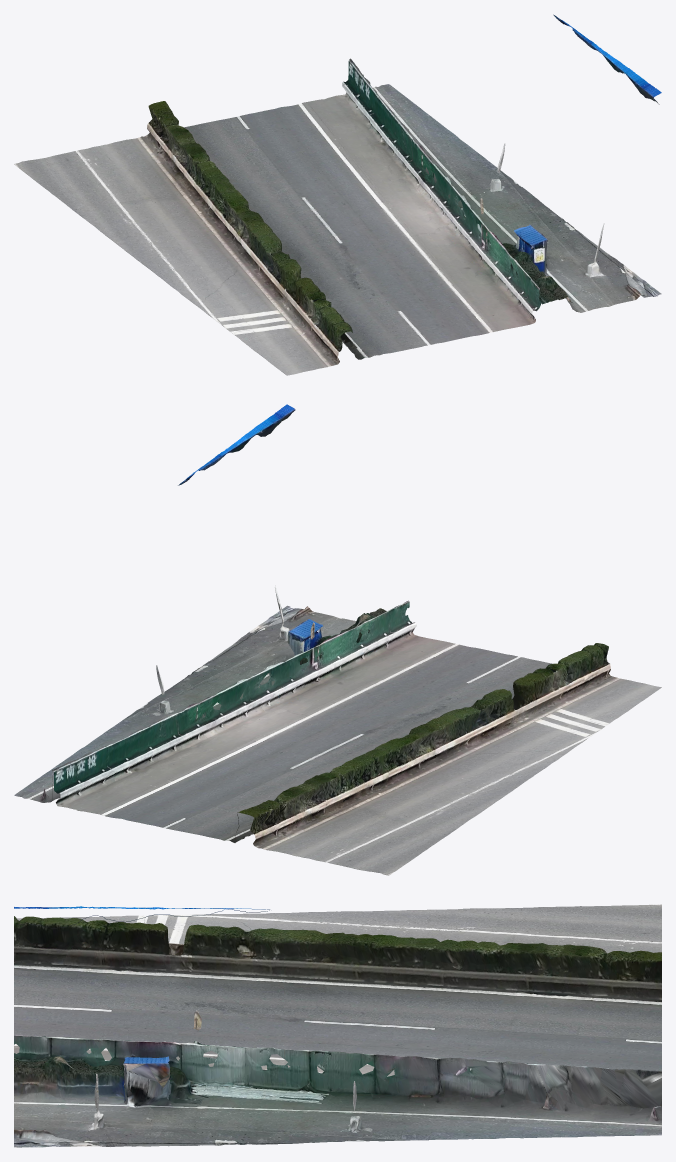
The model's file is BlockBYXA_L21_39.glb.
3 renders of one model, top to bottom at view 1: azimuth 30°, elevation 25°; view 2: azimuth 150°, elevation 25°; view 3: azimuth 270°, elevation 25°, orthographic. The views are drawn at different scales.
Parts seen in each view (by area): view 1: rtc; view 2: rtc; view 3: rtc.
Boxes of the visible parts, x1,y1,x2,y2 form: rtc: (14, 14, 661, 375); rtc: (14, 404, 661, 875); rtc: (14, 904, 661, 1147).
Bounding box in the file's own units: 23.57 × 12.23 × 29.74.
5 materials, 5 textured.
